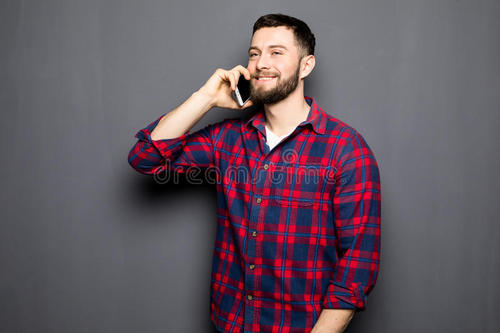phone: (223, 62, 251, 108)
talk: (196, 39, 304, 115)
